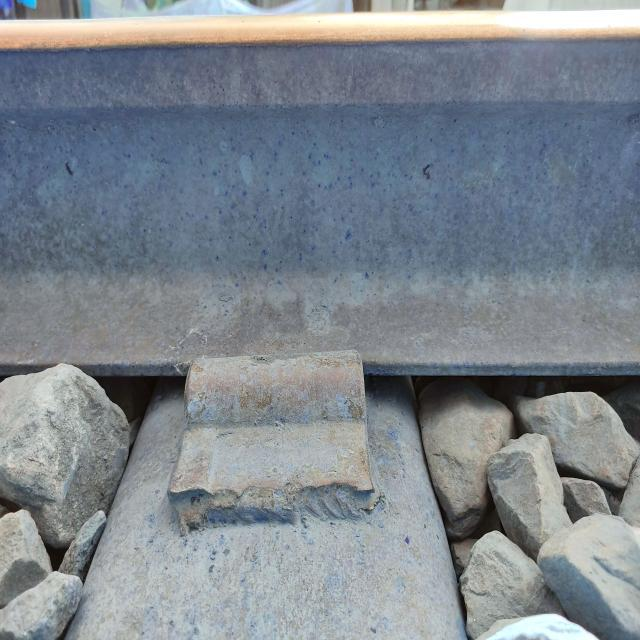Missing Fastener: (137, 321, 388, 573)
